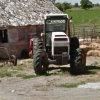Tractor: (28, 11, 90, 77)
